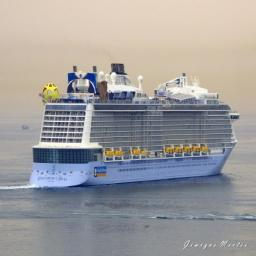cruises: (29, 61, 242, 193)
